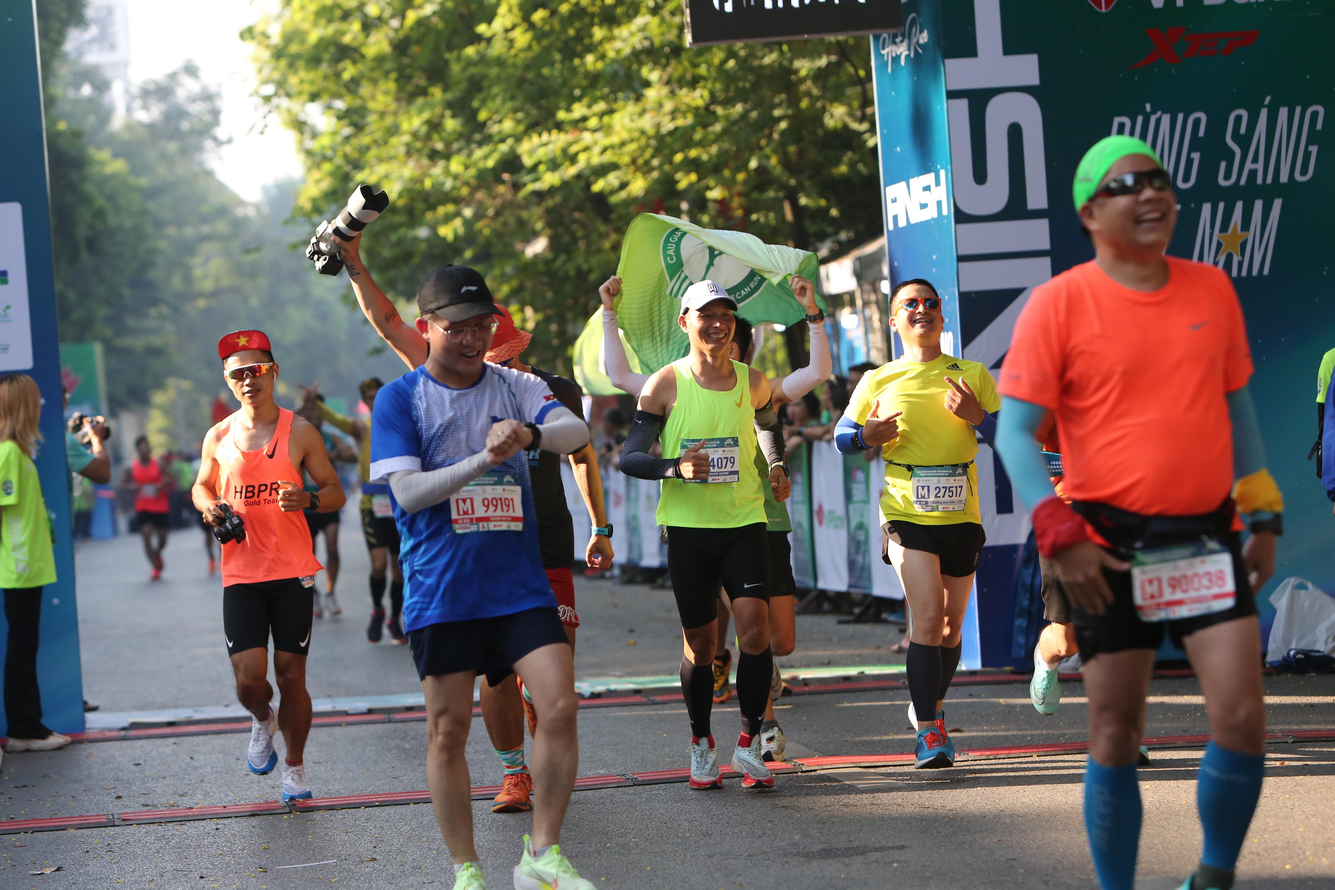bib: (1133, 545, 1236, 622), (452, 473, 522, 532), (681, 437, 738, 484), (912, 466, 965, 511), (369, 493, 394, 517)
